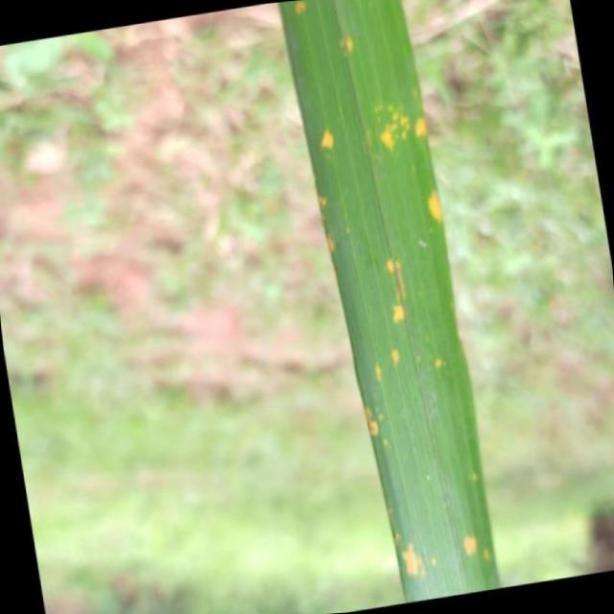Kalium: (274, 0, 500, 601)
